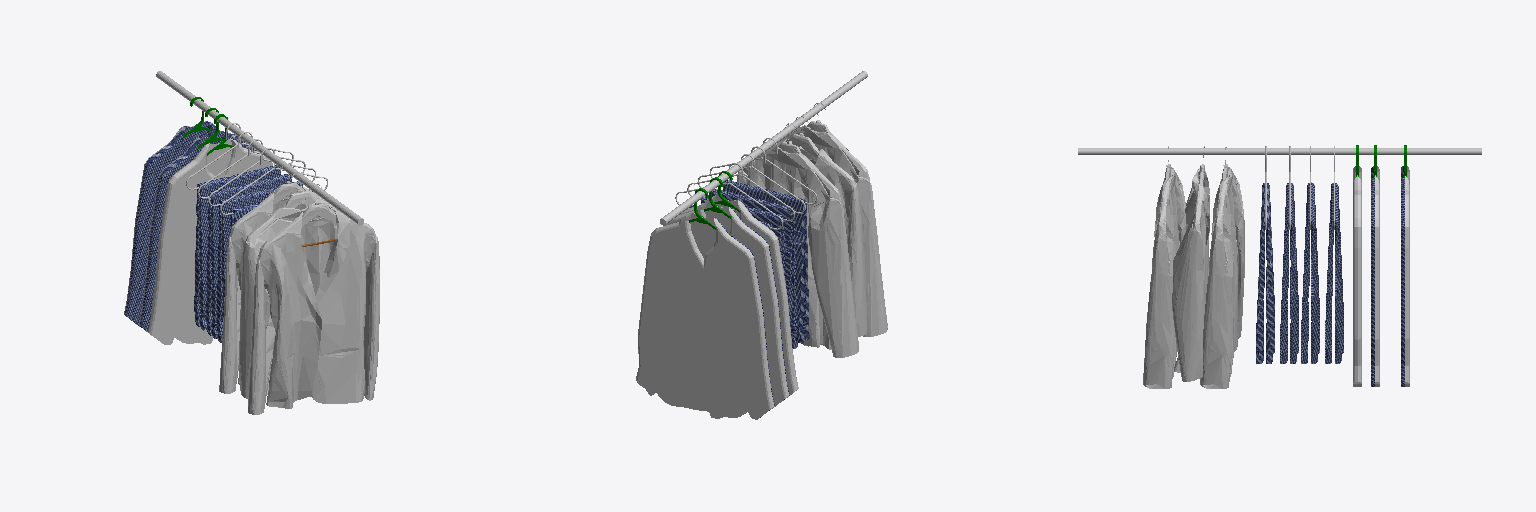
3 views of the same model, side by side, from view 1: azimuth 30°, elevation 25°; view 2: azimuth 150°, elevation 25°; view 3: azimuth 270°, elevation 25° (orthographic).
Visible parts, largest first — view 1: 3DGeom_61, Component#3_001, 3DGeom_92, Component#3_005, Mesh246, Group_009, Group_015, Component#3_003, Circle.076, Group_013; view 2: Component#3_006, 3DGeom_92, 3DGeom_61, Component#3_004, Mesh246, Group_011, Component#3_002, Group_013, Circle.076, Group_015; view 3: 3DGeom_92, Mesh246, 3DGeom_61, Circle.076, Group_015, Group_013, Group_011, Group_009, Component#3_001, Component#3_004, Component#3_006, Component#3_005 (+2 smaller).
Boxes of the visible parts, box(x1,y1,x2,y2) form: 3DGeom_61: box(248, 207, 379, 414); Component#3_001: box(148, 138, 272, 344); 3DGeom_92: box(219, 186, 324, 393); Component#3_005: box(125, 121, 246, 326); Mesh246: box(239, 198, 341, 398); Group_009: box(194, 165, 280, 330); Group_015: box(206, 174, 292, 338); Component#3_003: box(139, 132, 257, 337); Circle.076: box(156, 71, 363, 225); Group_013: box(217, 181, 302, 342); Component#3_006: box(636, 213, 773, 419); 3DGeom_92: box(737, 146, 858, 357); 3DGeom_61: box(778, 125, 887, 336); Component#3_004: box(665, 202, 788, 408); Mesh246: box(770, 139, 866, 336); Group_011: box(723, 180, 809, 343); Component#3_002: box(680, 195, 797, 400); Group_013: box(712, 189, 797, 348); Circle.076: box(660, 71, 867, 225); Group_015: box(701, 196, 785, 282); 3DGeom_92: box(1200, 167, 1244, 388); Mesh246: box(1172, 168, 1209, 381); 3DGeom_61: box(1143, 167, 1185, 388); Circle.076: box(1078, 148, 1481, 154); Group_015: box(1301, 182, 1319, 363); Group_013: box(1280, 183, 1298, 363); Group_011: box(1256, 183, 1274, 363); Group_009: box(1325, 183, 1343, 363); Component#3_001: box(1353, 166, 1357, 386); Component#3_004: box(1375, 166, 1379, 386); Component#3_006: box(1405, 166, 1409, 386); Component#3_005: box(1401, 166, 1404, 386).
Size of the model in its own units: 0.3862 by 0.6001 by 0.9788.
8 materials, 3 textured.